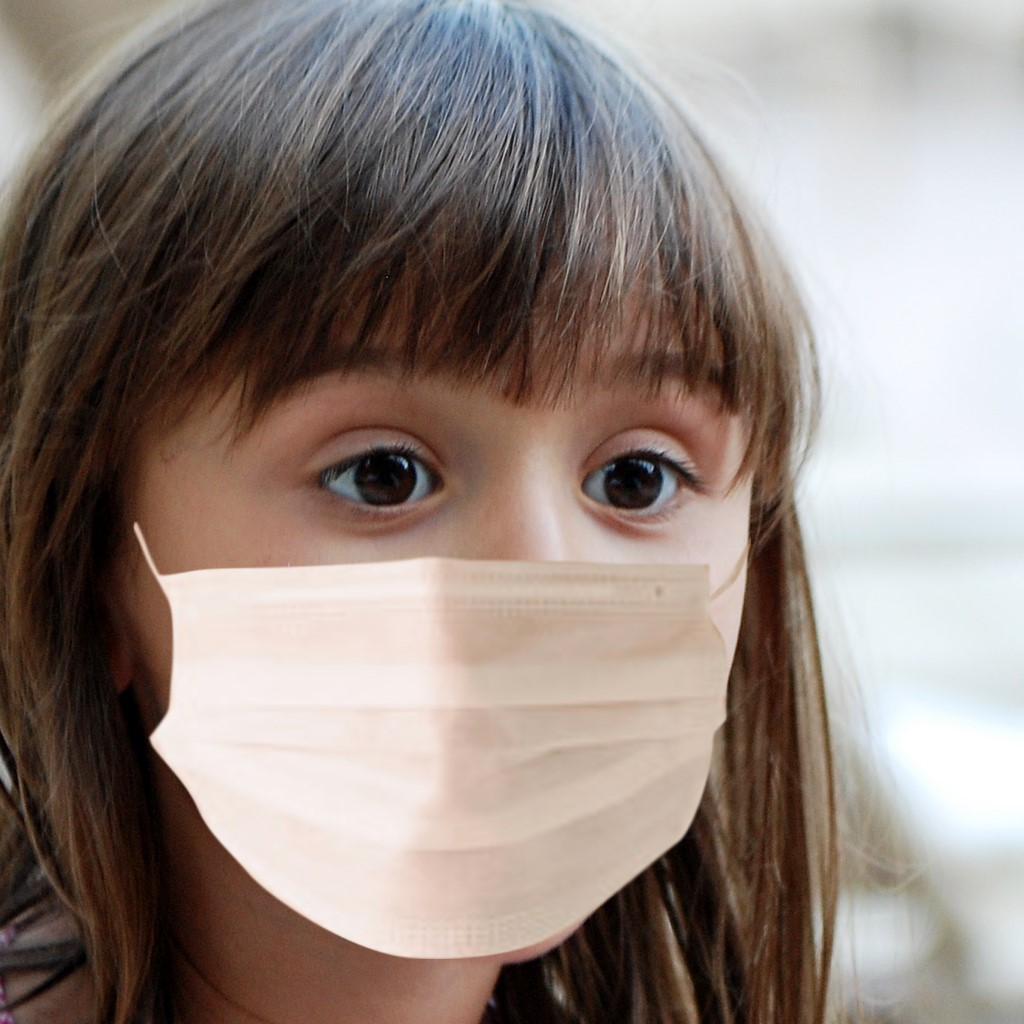con_mascara: (69, 162, 751, 977)
